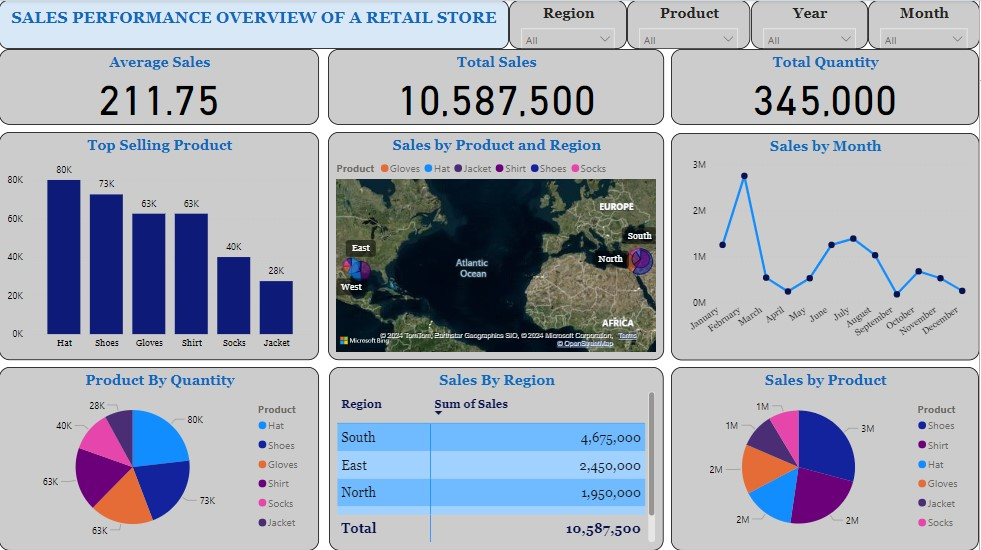

The dashboard page shown, as its layout file describes it:
{"tool":"powerbi","page":{"name":"Page 1","canvas":[1280,720],"ordinal":0},"visuals":[{"type":"slicer","title":"Product ","fields":{"Values":["SalesData.Product"]},"box":[820.8,0,161.1,63.9],"z":0},{"type":"textbox","box":[0,0,666.1,64],"z":1000},{"type":"slicer","title":"Region","fields":{"Values":["SalesData.Region"]},"box":[666.7,0,154.2,63.9],"z":2000},{"type":"columnChart","title":"Top Selling Product","fields":{"Category":["SalesData.Product"],"Y":["Sum(SalesData.Quantity)"]},"box":[0,173,418.1,298],"z":3000},{"type":"map","title":"Sales by Product and Region","fields":{"Series":["SalesData.Product"],"Category":["SalesData.Region"],"Size":["Sum(SalesData.Sales)"]},"box":[429.3,173,438.9,298],"z":4000},{"type":"lineChart","title":"Sales by Month","fields":{"Category":["SalesData.OrderDate.Variation.Date Hierarchy.Month"],"Y":["Sum(SalesData.Sales)"]},"box":[877.8,173.6,402.8,297.2],"z":5000},{"type":"pivotTable","title":"Sales By Region","fields":{"Rows":["SalesData.Region"],"Values":["Sum(SalesData.Sales)"]},"box":[430.9,479,437.3,240.3],"z":6000},{"type":"card","title":"Average Sales","fields":{"Values":["SalesData.Average Sales"]},"box":[0,64.1,418.1,99.3],"z":7000},{"type":"pieChart","title":"Sales by Product","fields":{"Category":["SalesData.Product"],"Y":["Sum(SalesData.Sales)"]},"box":[877.9,479,402.1,240.3],"z":8000},{"type":"slicer","title":"Year","fields":{"Values":["SalesData.OrderDate.Variation.Date Hierarchy.Year"]},"box":[981.9,0,152.8,63.9],"z":9000},{"type":"slicer","title":"Month","fields":{"Values":["SalesData.OrderDate.Variation.Date Hierarchy.Month"]},"box":[1134.7,0,145.8,63.9],"z":10000},{"type":"card","title":"Total Sales","fields":{"Values":["SalesData.Total Sales"]},"box":[429.3,64.1,438.9,99.3],"z":11000},{"type":"pieChart","title":"Product By Quantity","fields":{"Category":["SalesData.Product"],"Y":["Sum(SalesData.Quantity)"]},"box":[0,479,418.1,240.3],"z":12000},{"type":"card","title":"Total Quantity","fields":{"Values":["SalesData.Total Quantity"]},"box":[877.9,64.1,402.1,99.3],"z":13000}]}

Visuals, with their boxes in screenshot pixels (x1, y1, x2, y2), scaled from the page's 1280x720 canvas onto the 981x550 screenshot:
"Product " slicer: 629,0,753,49
textbox: 0,0,511,49
"Region" slicer: 511,0,629,49
"Top Selling Product" columnChart: 0,132,320,360
"Sales by Product and Region" map: 329,132,665,360
"Sales by Month" lineChart: 673,133,980,360
"Sales By Region" pivotTable: 330,366,665,549
"Average Sales" card: 0,49,320,125
"Sales by Product" pieChart: 673,366,980,549
"Year" slicer: 753,0,870,49
"Month" slicer: 870,0,980,49
"Total Sales" card: 329,49,665,125
"Product By Quantity" pieChart: 0,366,320,549
"Total Quantity" card: 673,49,980,125
